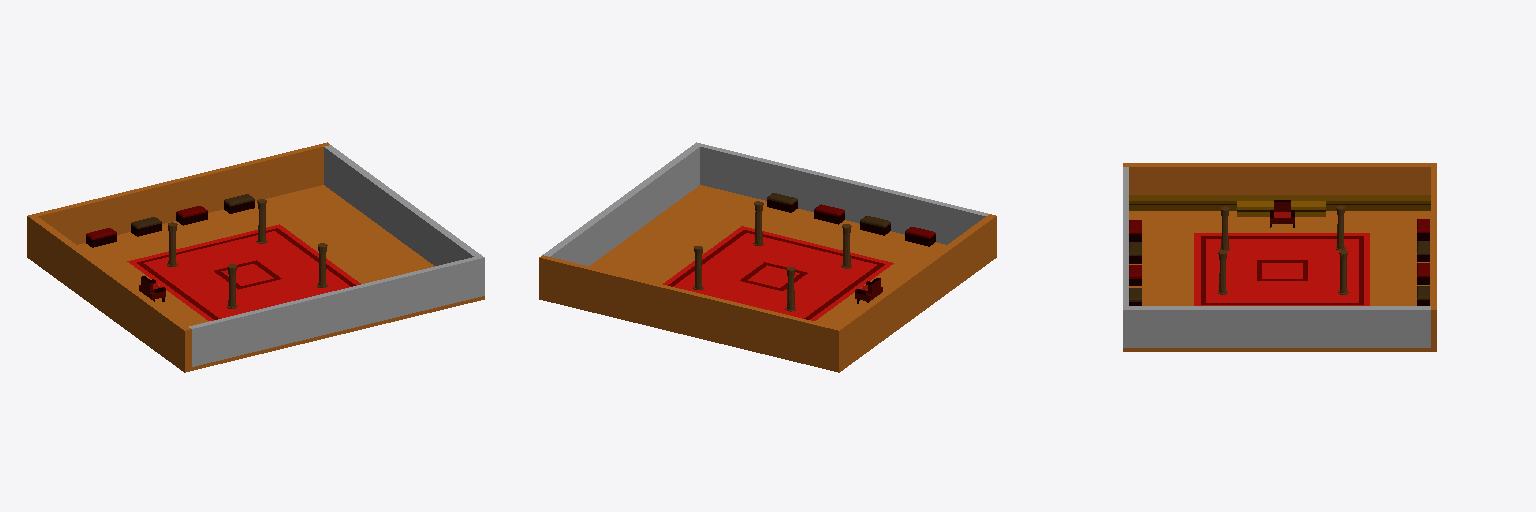
Rendered from PharaohsHouse.obj.
The picture shows the model from 3 angles: view 1: azimuth 30°, elevation 25°; view 2: azimuth 150°, elevation 25°; view 3: azimuth 270°, elevation 25°; orthographic projection.
Parts seen in each view (by area): view 1: Cube_Cube.001, Plane; view 2: Cube_Cube.001, Plane; view 3: Cube_Cube.001, Plane, Cube.002, Cube.003, Cube.013_Cube.015.
Boxes of the visible parts, box(x1,y1,x2,y2) form: Cube_Cube.001: box(27, 142, 484, 372); Plane: box(127, 224, 360, 320); Cube_Cube.001: box(539, 142, 996, 372); Plane: box(663, 226, 893, 320); Cube_Cube.001: box(1123, 163, 1436, 351); Plane: box(1194, 233, 1369, 305); Cube.002: box(1129, 195, 1430, 210); Cube.003: box(1237, 201, 1325, 216); Cube.013_Cube.015: box(1270, 200, 1294, 227).
Bounding box in the file's own units: 110 × 15.8 × 100.